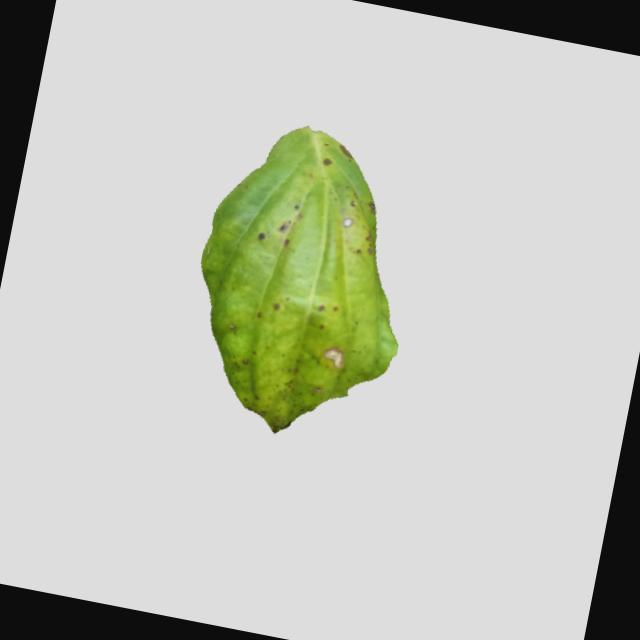yellow-mottle-virus: (160, 100, 443, 450)
